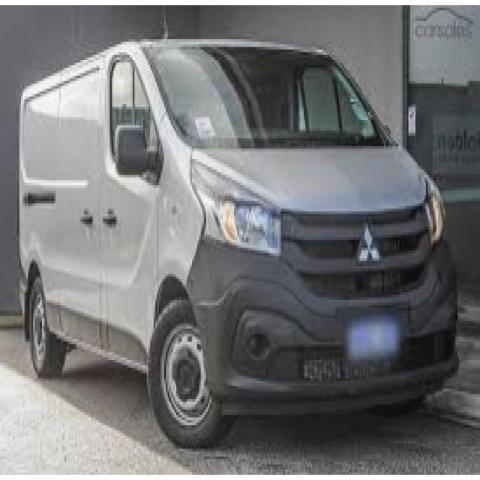van: (12, 37, 463, 449)
